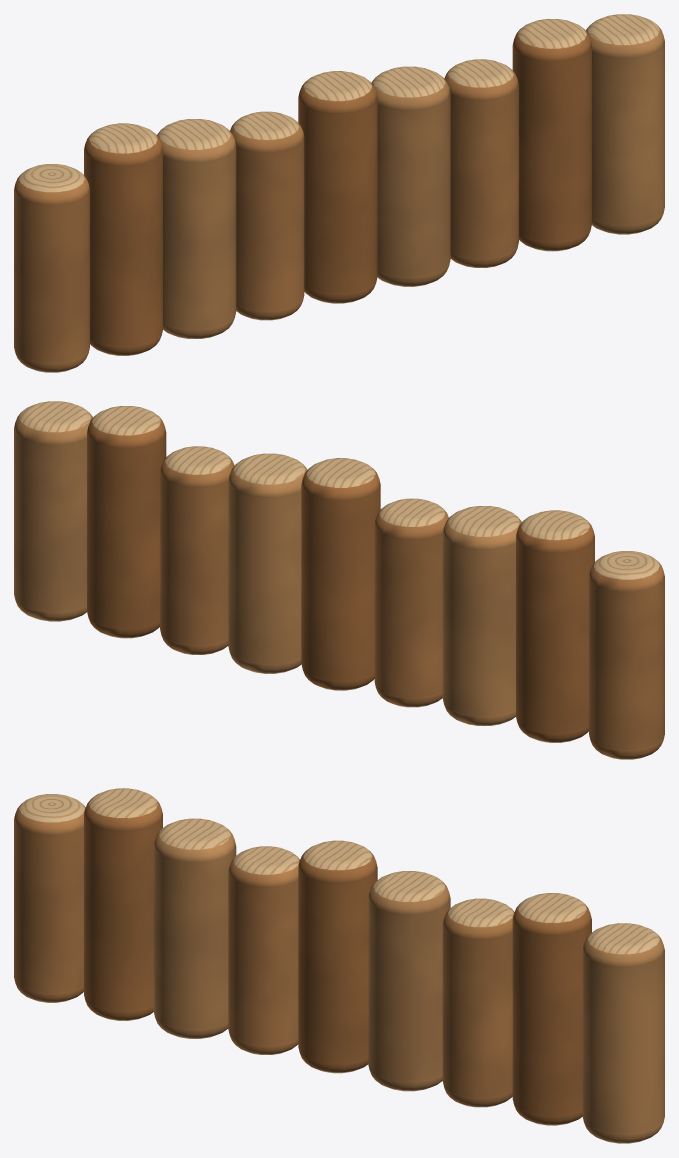
The model's file is fence_log_x.glb.
3 views of the same model, one above another, from view 1: azimuth 30°, elevation 25°; view 2: azimuth 150°, elevation 25°; view 3: azimuth 330°, elevation 25° (orthographic).
Visible parts, largest first — view 1: flog; view 2: flog; view 3: flog.
Boxes of the visible parts, <box> form: flog: <box>14,14,664,372</box>; flog: <box>14,401,664,759</box>; flog: <box>14,788,664,1143</box>.
Bounding box in the file's own units: 2.98 × 0.94 × 0.3328.
1 material, 1 textured.
